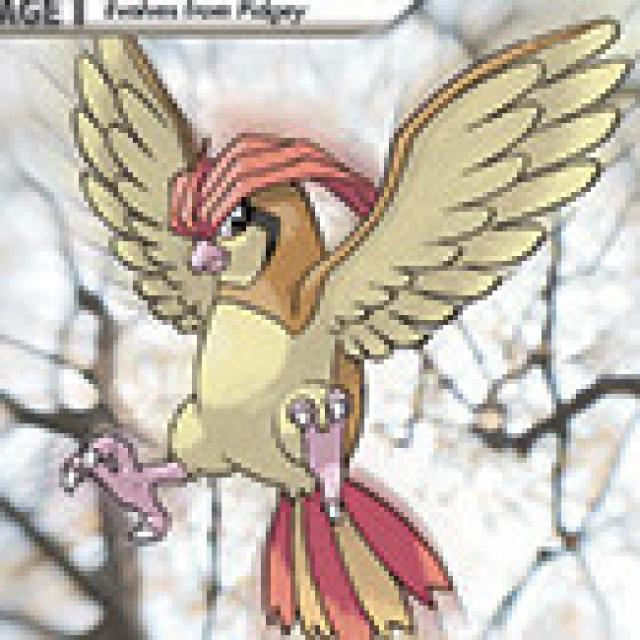Pidgeotto: (71, 42, 458, 640)
